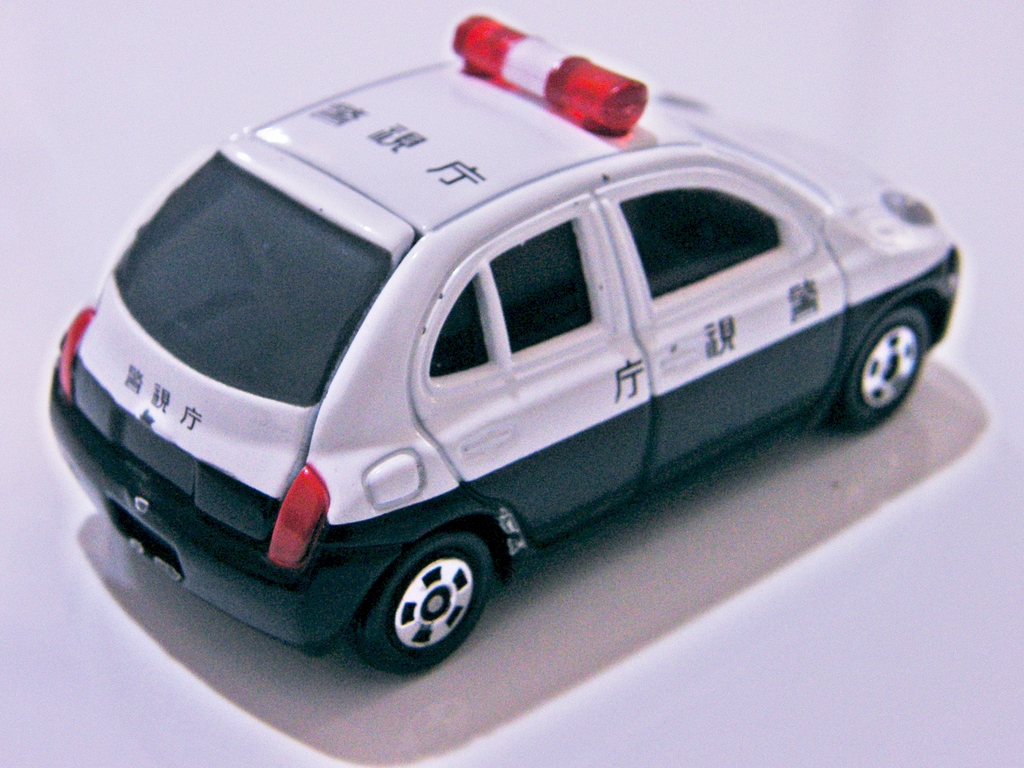Car: (40, 8, 963, 677)
